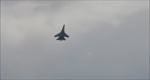maybay_muctieu: (54, 22, 69, 40)
